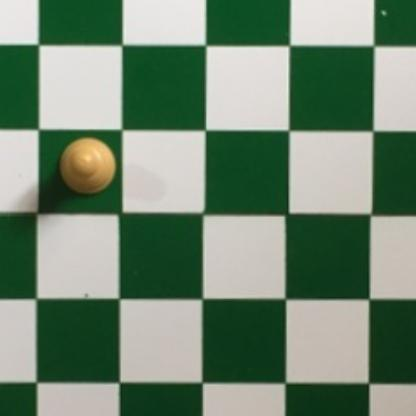white-pawn: (57, 134, 117, 201)
